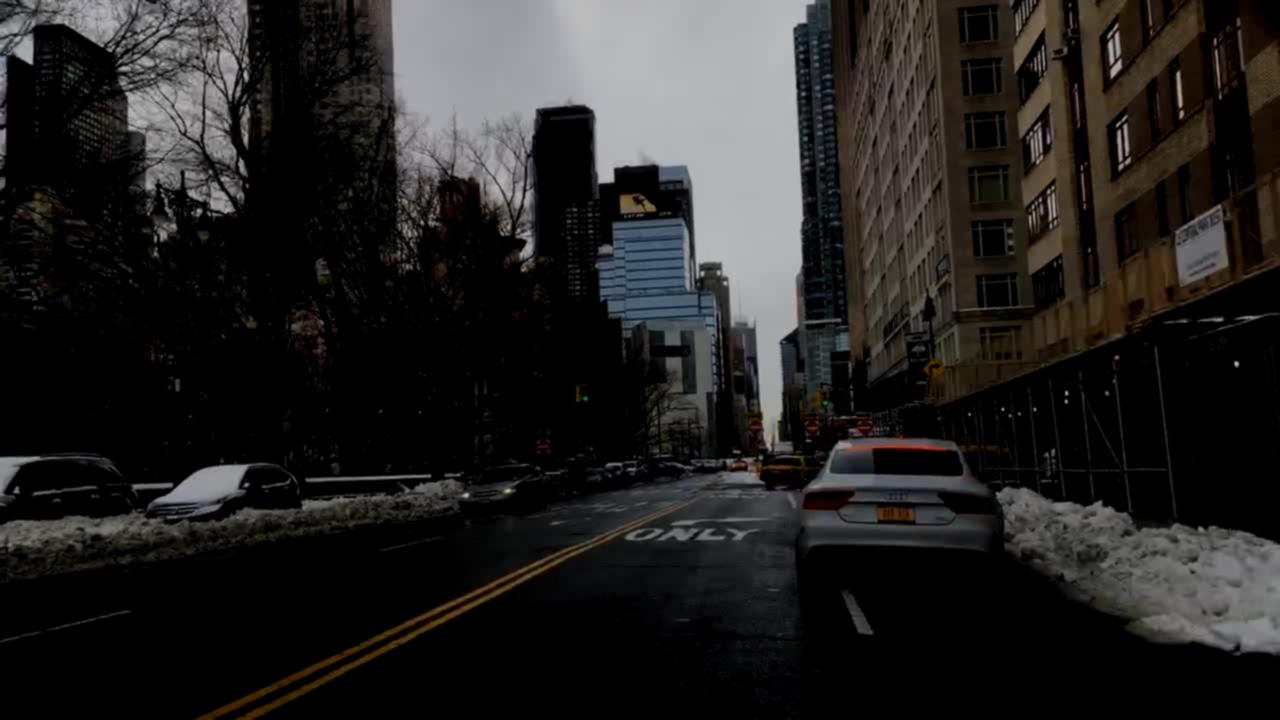Audi: (880, 488, 912, 503)
